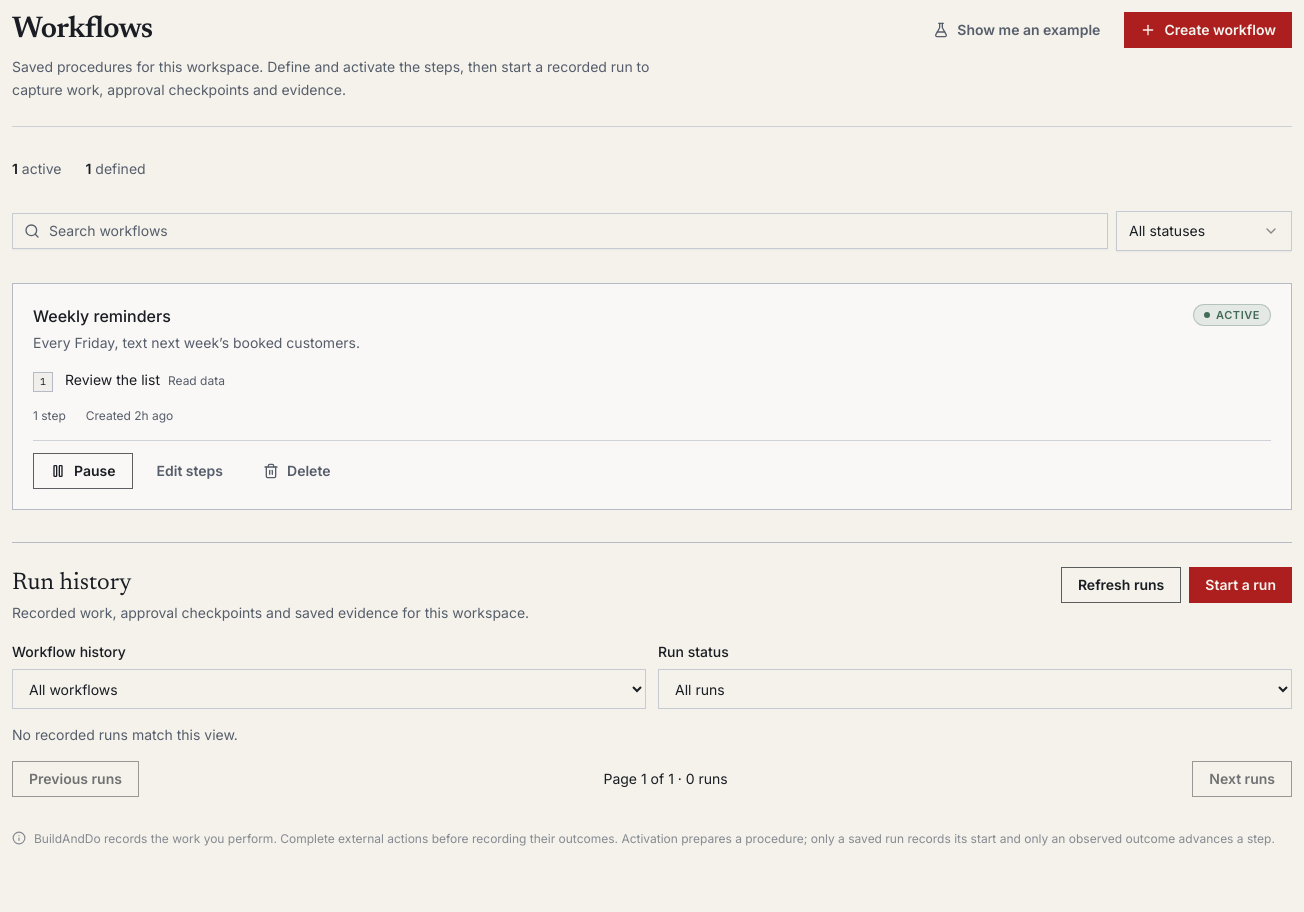
Test: WorkflowsPage › pauses an active workflow and reflects the new status
Click the button "Pause" at (83, 471), box 33,453 -> 132,489
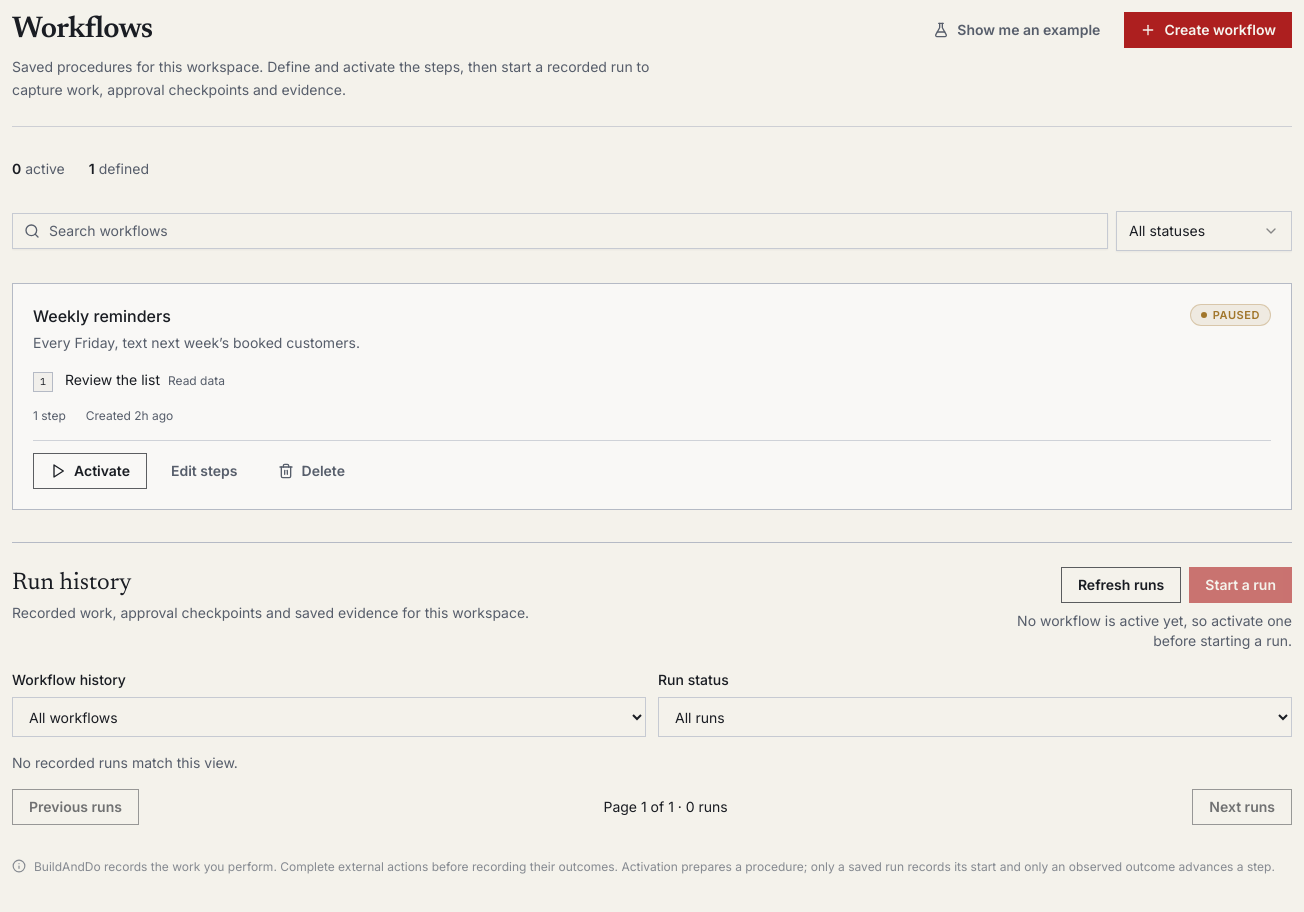
Expected: the button "Activate" is enabled, 33,453 -> 147,489
Result: the text "Paused" is shown at 1190,304 -> 1271,326
